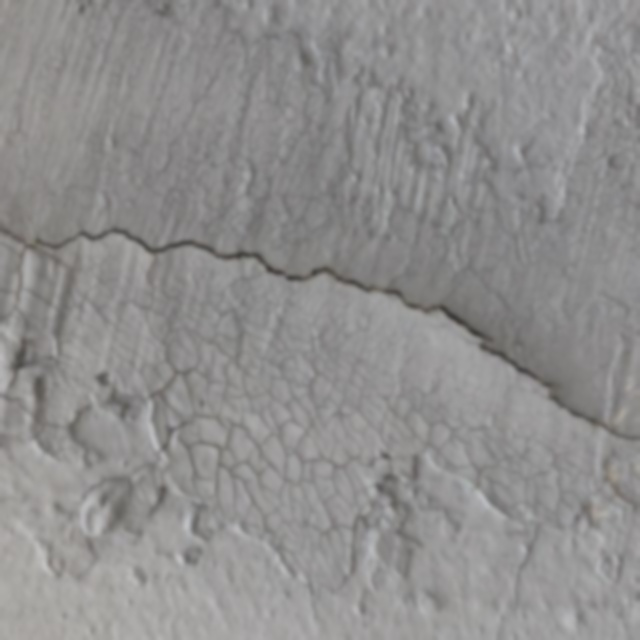SurfaceCrack: (2, 204, 640, 441)
